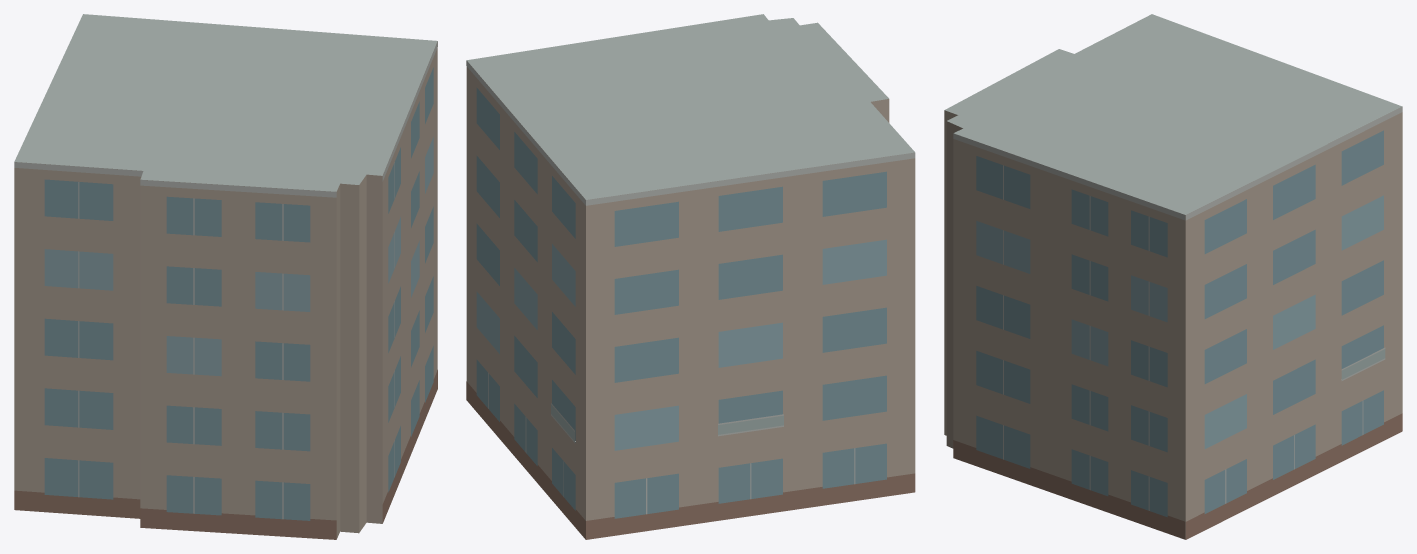
The model's file is survey-upis-32678487.glb.
3 renders of one model, left to right at view 1: azimuth 30°, elevation 25°; view 2: azimuth 150°, elevation 25°; view 3: azimuth 270°, elevation 25°, orthographic. The views are drawn at different scales.
Visible parts, largest first — view 1: survey-upis-32678487.tmp; view 2: survey-upis-32678487.tmp; view 3: survey-upis-32678487.tmp.
Boxes of the visible parts, x1,y1,x2,y2 form: survey-upis-32678487.tmp: [14, 14, 437, 539]; survey-upis-32678487.tmp: [466, 14, 915, 539]; survey-upis-32678487.tmp: [944, 14, 1402, 539].
Bounding box in the file's own units: 19.05 × 14.34 × 18.34.
